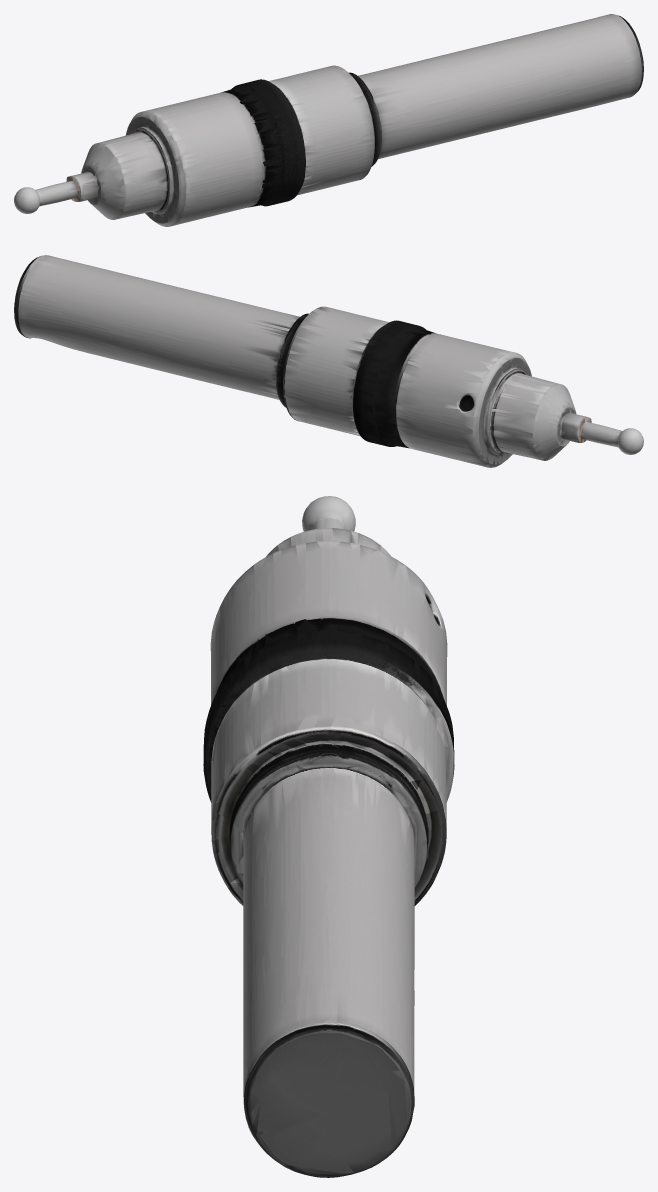
Rendered from tool_585.obj.
3 renders of one model, top to bottom at view 1: azimuth 30°, elevation 25°; view 2: azimuth 150°, elevation 25°; view 3: azimuth 270°, elevation 25°, orthographic. The views are drawn at different scales.
Visible parts, largest first — view 1: tool_585_tripo_normalized; view 2: tool_585_tripo_normalized; view 3: tool_585_tripo_normalized.
Boxes of the visible parts, x1,y1,x2,y2 form: tool_585_tripo_normalized: (14, 14, 643, 226); tool_585_tripo_normalized: (14, 255, 643, 467); tool_585_tripo_normalized: (203, 496, 454, 1177).
Bounding box in the file's own units: 68.32 × 12.16 × 12.21.
1 material, 1 textured.
